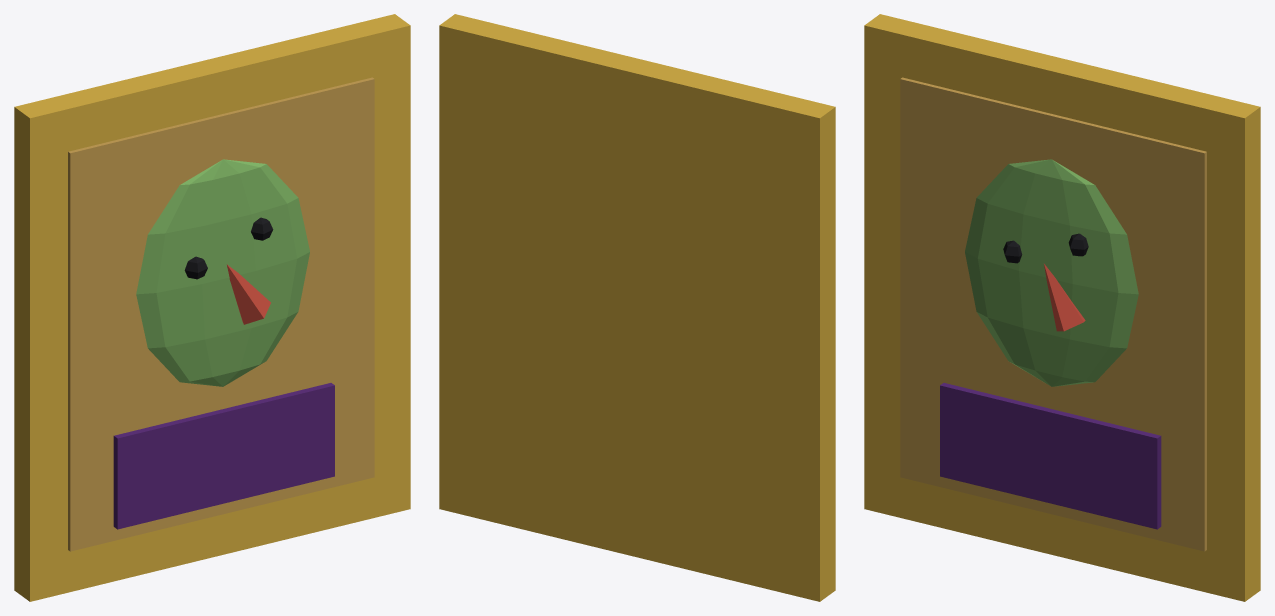
Rendered from lot_painting.glb.
3 renders of one model, left to right at view 1: azimuth 30°, elevation 25°; view 2: azimuth 150°, elevation 25°; view 3: azimuth 330°, elevation 25°, orthographic.
Visible parts, largest first — view 1: frame_auction_gold, canvas_canvas_ochre, face_portrait_green, body_portrait_purple, nose_portrait_red; view 2: frame_auction_gold; view 3: frame_auction_gold, canvas_canvas_ochre, face_portrait_green, body_portrait_purple, nose_portrait_red.
Boxes of the visible parts, bbox=[...] form: frame_auction_gold: bbox=[14, 14, 410, 601]; canvas_canvas_ochre: bbox=[68, 77, 374, 551]; face_portrait_green: bbox=[136, 159, 309, 386]; body_portrait_purple: bbox=[113, 383, 334, 529]; nose_portrait_red: bbox=[227, 264, 270, 324]; frame_auction_gold: bbox=[439, 14, 835, 601]; frame_auction_gold: bbox=[864, 14, 1260, 601]; canvas_canvas_ochre: bbox=[900, 77, 1206, 551]; face_portrait_green: bbox=[965, 159, 1138, 386]; body_portrait_purple: bbox=[940, 383, 1161, 529]; nose_portrait_red: bbox=[1044, 264, 1085, 331].
Size of the model in its own units: 0.7 by 0.85 by 0.105.
